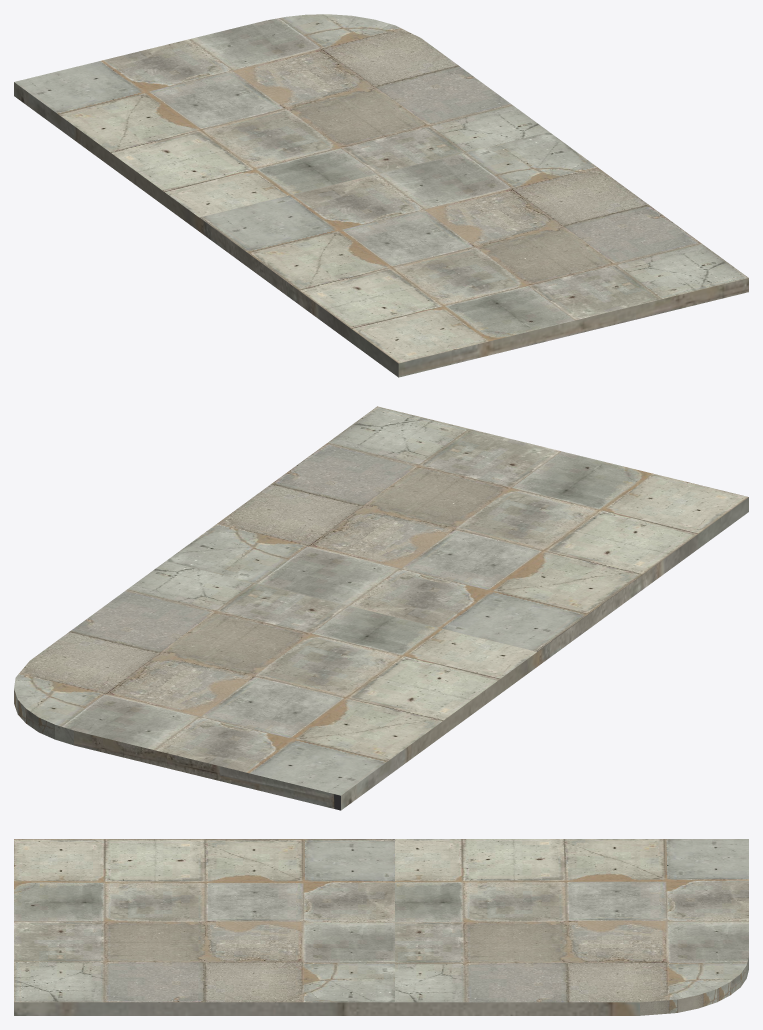
3 views of the same model, one above another, from view 1: azimuth 30°, elevation 25°; view 2: azimuth 150°, elevation 25°; view 3: azimuth 270°, elevation 25° (orthographic). The views are drawn at different scales.
Parts seen in each view (by area): view 1: Component_3_1; view 2: Component_3_1; view 3: Component_3_1.
Boxes of the visible parts, x1,y1,x2,y2 form: Component_3_1: [14, 14, 748, 377]; Component_3_1: [14, 406, 748, 810]; Component_3_1: [14, 839, 748, 1015].
Size of the model in its own units: 150 by 5.75 by 285.
